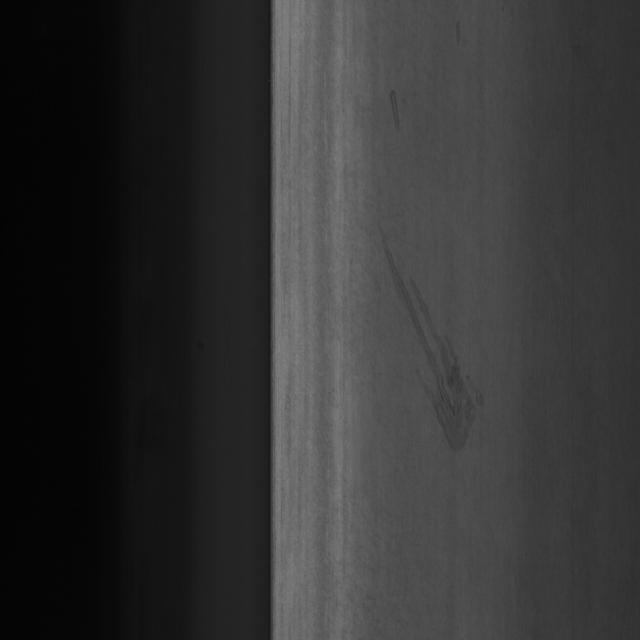water_spot: (372, 208, 497, 476), (382, 78, 404, 136), (449, 17, 469, 53)
